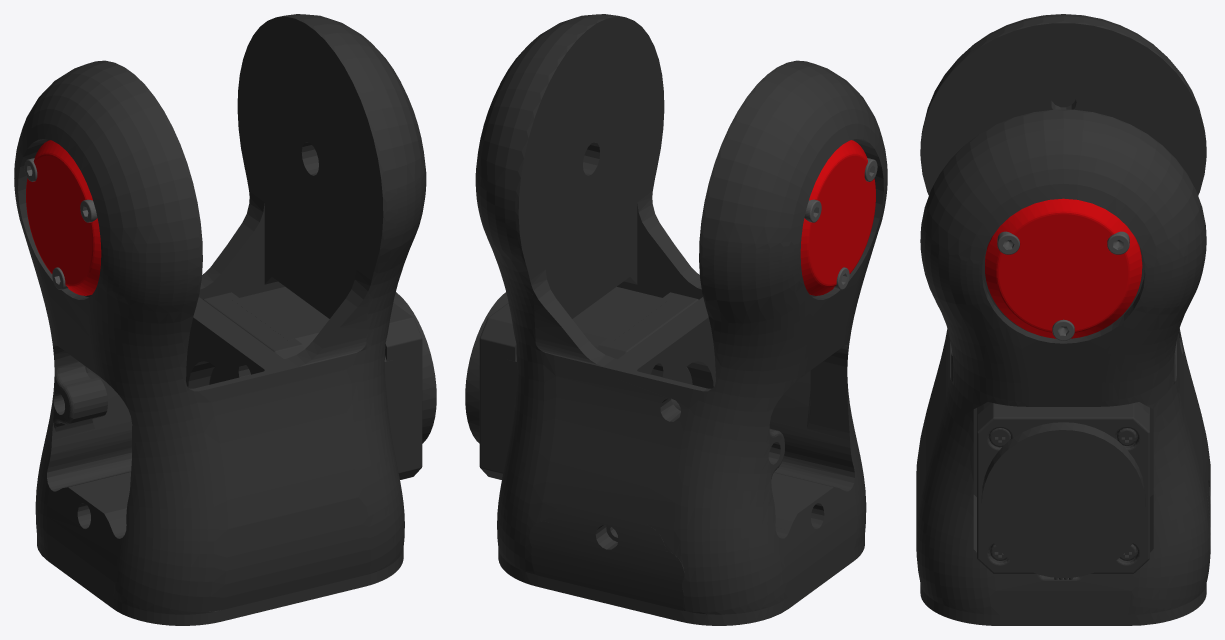
The picture shows the model from 3 angles, left to right: view 1: azimuth 30°, elevation 25°; view 2: azimuth 150°, elevation 25°; view 3: azimuth 270°, elevation 25°; orthographic projection.
Parts seen in each view (by area): view 1: module_4.1; view 2: module_4.1; view 3: module_4.1.
Boxes of the visible parts, x1,y1,x2,y2 form: module_4.1: (14,14,436,625); module_4.1: (465,14,887,625); module_4.1: (916,14,1210,625).
Size of the model in its own units: 93.6 by 133 by 72.01.
